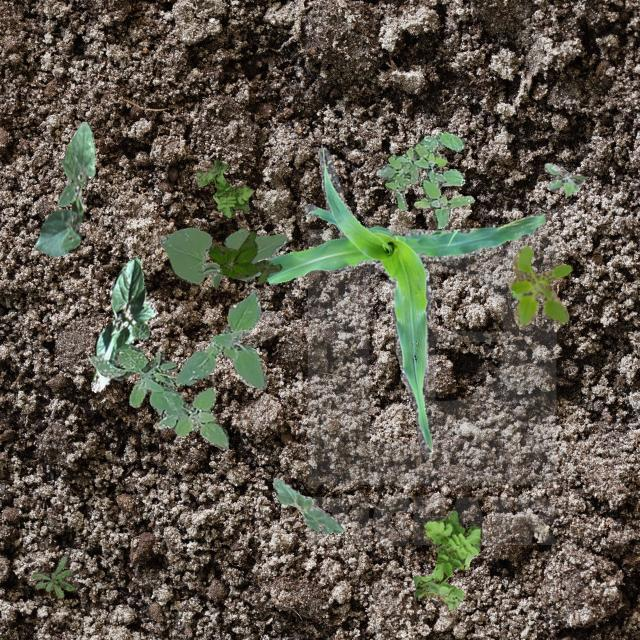crop: (262, 146, 546, 454), (90, 256, 156, 392), (34, 120, 94, 256), (158, 226, 286, 288), (272, 477, 342, 532)
weed: (86, 290, 266, 448), (376, 132, 474, 228), (412, 508, 480, 610), (508, 245, 570, 326), (208, 230, 280, 282), (196, 156, 250, 216), (31, 556, 72, 596), (544, 162, 586, 194)
